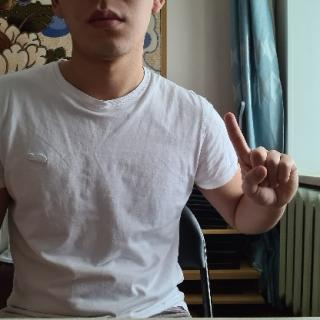BAA: (221, 110, 304, 210)
